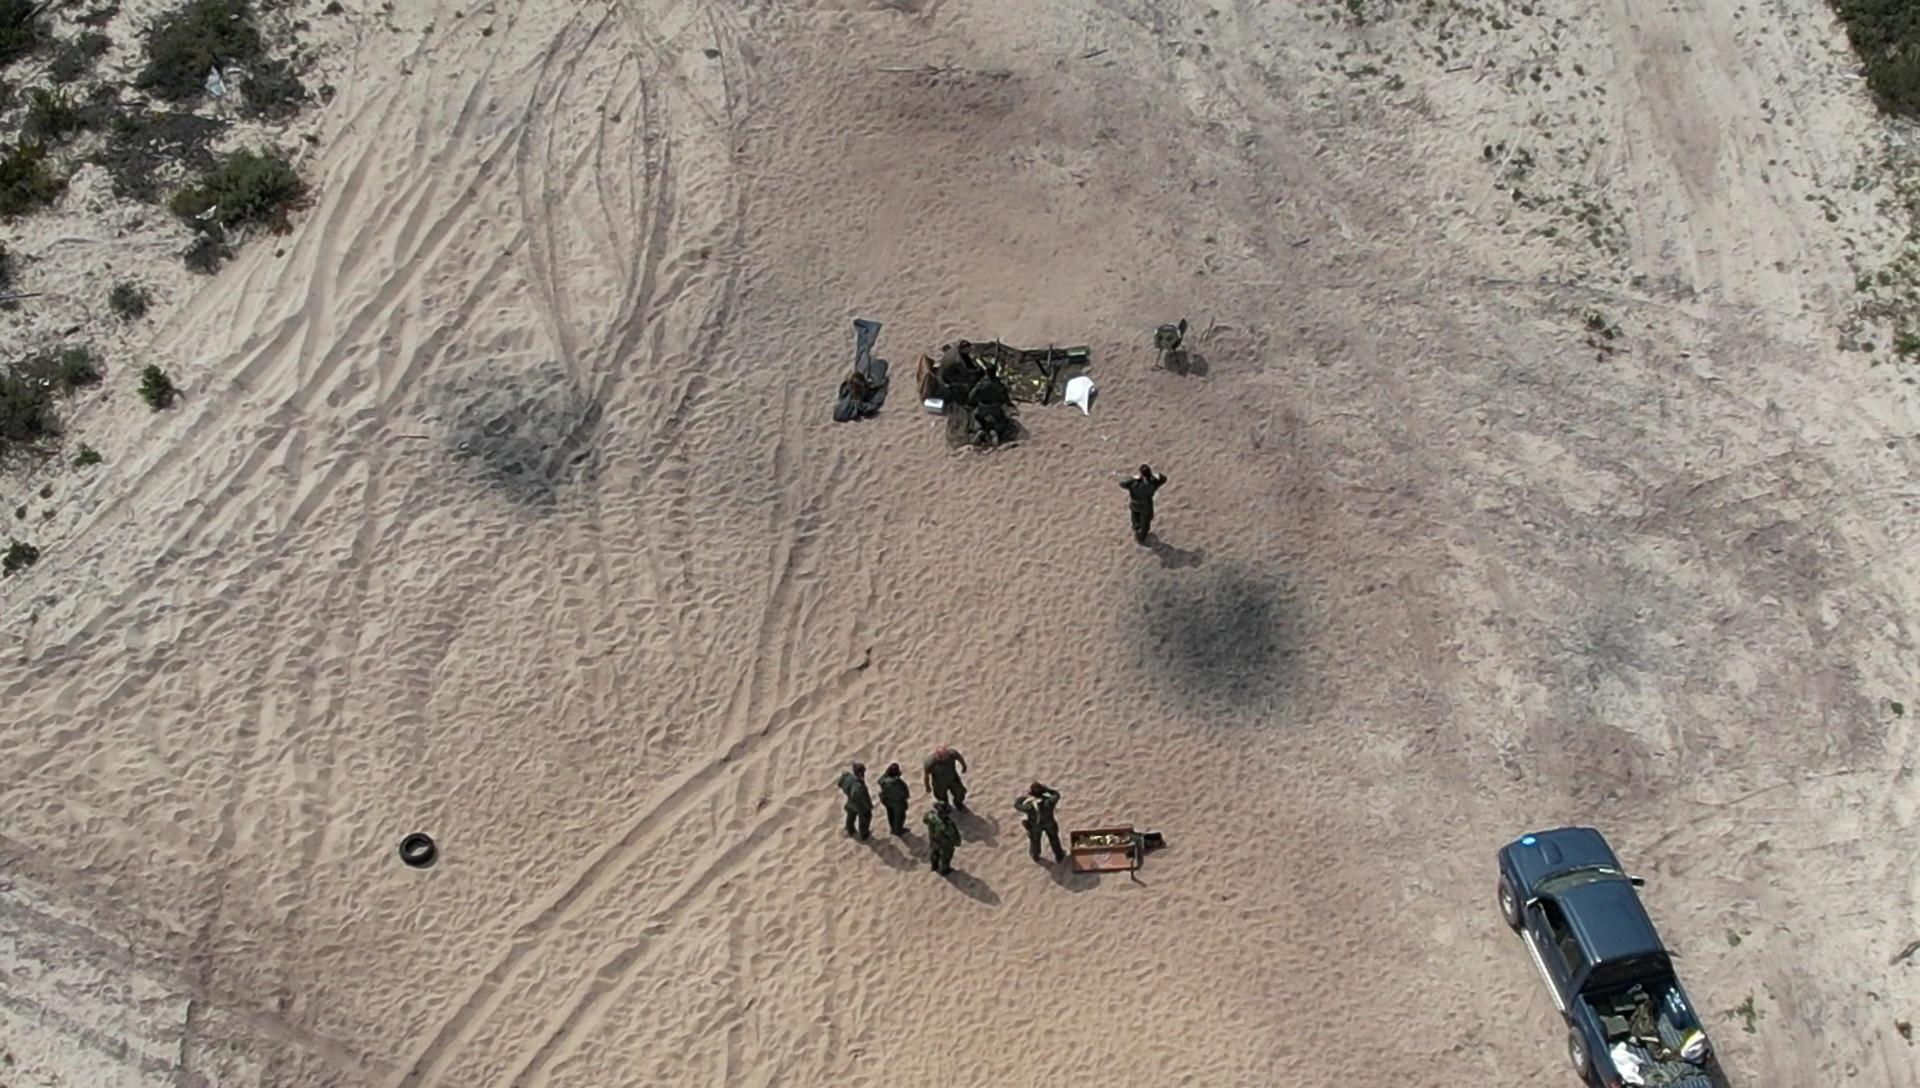Soldier: (952, 360, 1022, 454), (913, 727, 971, 828), (872, 750, 919, 861), (1120, 447, 1168, 549), (922, 786, 973, 876), (1004, 753, 1055, 833), (837, 746, 869, 847), (934, 336, 988, 392)
